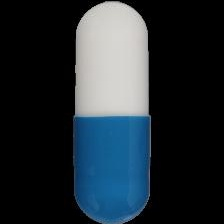53808-0255: (0, 0, 224, 224)
